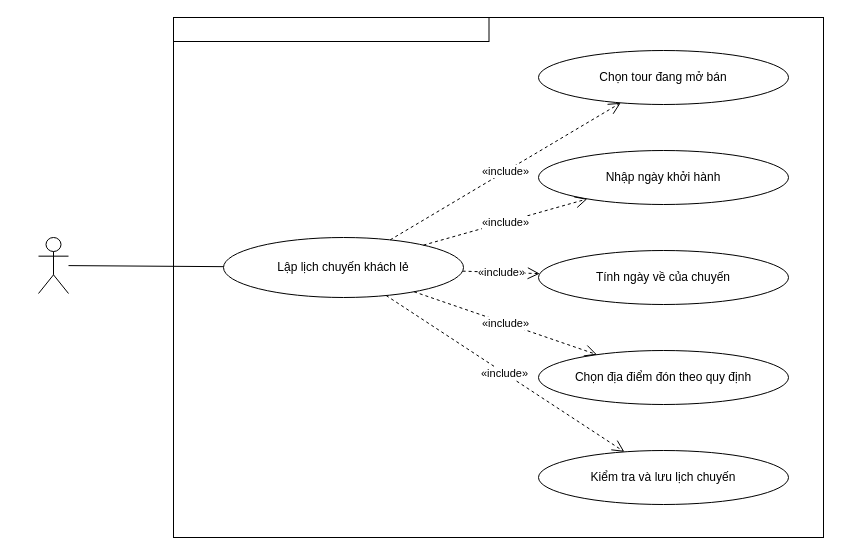
This 841x555 diagram has some shape labels left out. Each missing label, with the centre of its shape:
"NV điều hành" belongs at (x=53, y=265).
"Phân rã Use Case Lập lịch chuyến khách lẻ" belongs at (x=330, y=29).
